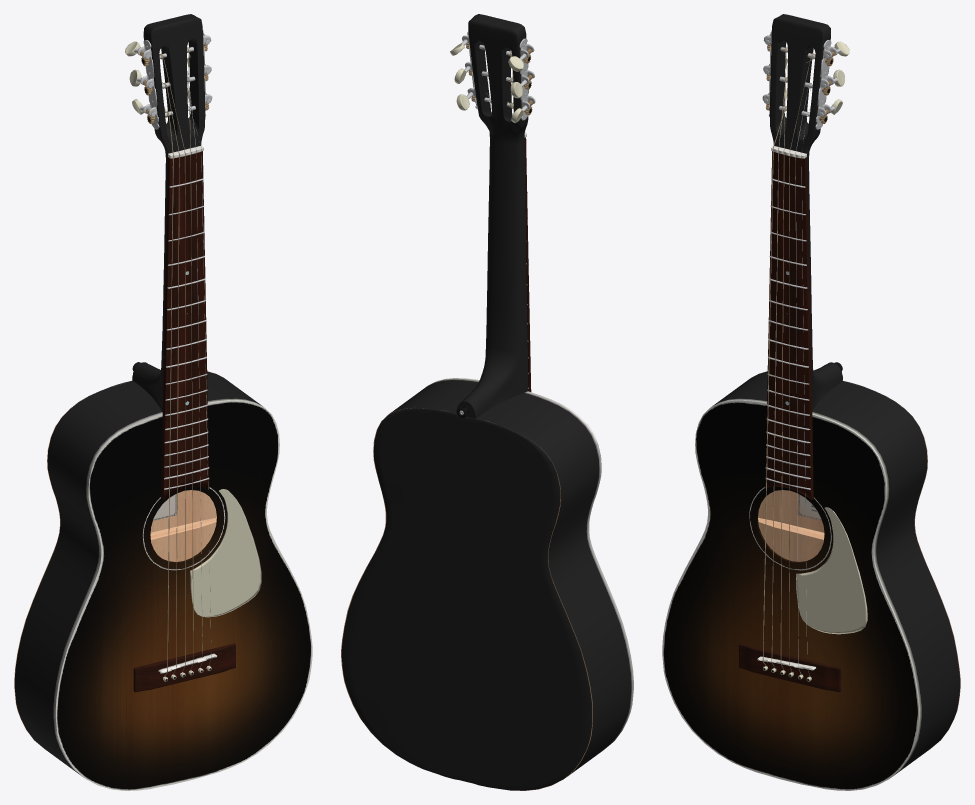
File: guitar_textures.gltf
3 renders of one model, left to right at view 1: azimuth 30°, elevation 25°; view 2: azimuth 150°, elevation 25°; view 3: azimuth 330°, elevation 25°, orthographic.
Parts seen in each view (by area): view 1: parlourGuitar, parlourGuitar.string.E, parlourGuitar.string.A, parlourGuitar.string.G, parlourGuitar.string.D, parlourGuitar.string.B; view 2: parlourGuitar; view 3: parlourGuitar, parlourGuitar.string.E, parlourGuitar.string.D, parlourGuitar.string.A, parlourGuitar.string.G, parlourGuitar.string.B.
Boxes of the visible parts, x1=… form: parlourGuitar: x1=14, y1=14, x2=312, y2=790; parlourGuitar.string.E: x1=164, y1=107, x2=173, y2=676; parlourGuitar.string.A: x1=161, y1=82, x2=179, y2=674; parlourGuitar.string.G: x1=187, y1=47, x2=193, y2=669; parlourGuitar.string.D: x1=159, y1=54, x2=185, y2=672; parlourGuitar.string.B: x1=187, y1=77, x2=202, y2=666; parlourGuitar: x1=341, y1=14, x2=633, y2=790; parlourGuitar: x1=662, y1=14, x2=960, y2=790; parlourGuitar.string.E: x1=762, y1=106, x2=786, y2=665; parlourGuitar.string.D: x1=780, y1=47, x2=787, y2=669; parlourGuitar.string.A: x1=771, y1=77, x2=787, y2=667; parlourGuitar.string.G: x1=789, y1=53, x2=814, y2=671; parlourGuitar.string.B: x1=795, y1=83, x2=811, y2=674.
Bounding box in the file's own units: 0.3313 × 0.9394 × 0.1181.
3 materials, 1 textured.
